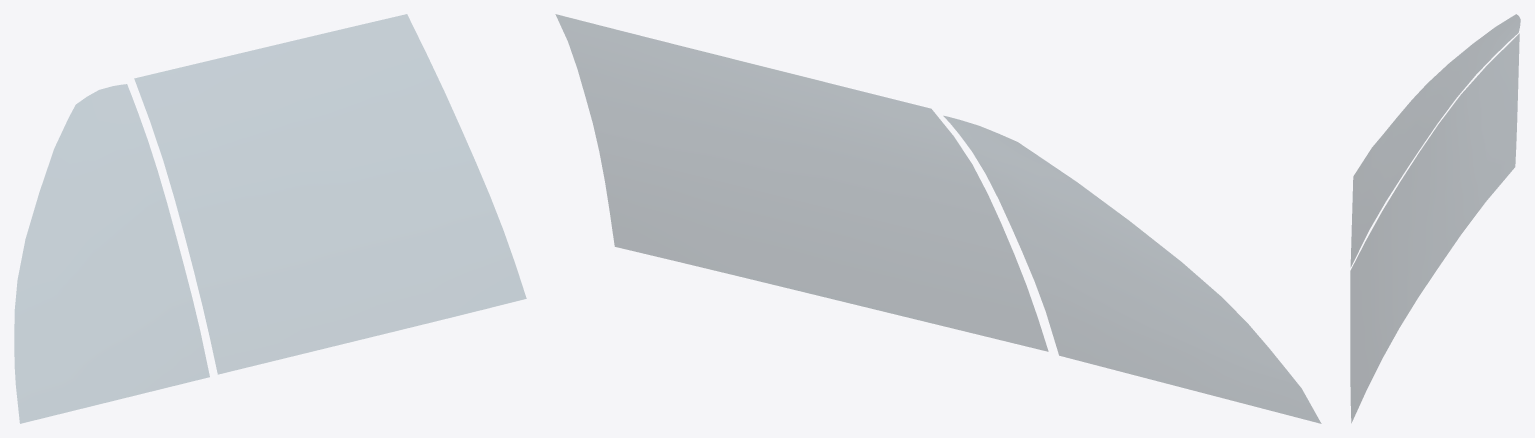
The picture shows the model from 3 angles, left to right: view 1: azimuth 30°, elevation 25°; view 2: azimuth 150°, elevation 25°; view 3: azimuth 270°, elevation 25°; orthographic projection. The views are drawn at different scales.
Visible parts, largest first — view 1: SM_FordCrown02_Door_RR_Glass_Ext2; view 2: SM_FordCrown02_Door_RR_Glass_Ext2; view 3: SM_FordCrown02_Door_RR_Glass_Ext2.
Part boxes in pixels (x1,y1,x2,y2): SM_FordCrown02_Door_RR_Glass_Ext2: (14,14,526,423); SM_FordCrown02_Door_RR_Glass_Ext2: (555,14,1321,423); SM_FordCrown02_Door_RR_Glass_Ext2: (1350,14,1520,422).
Bounding box in the file's own units: 0.8099 × 0.3632 × 0.2335.
